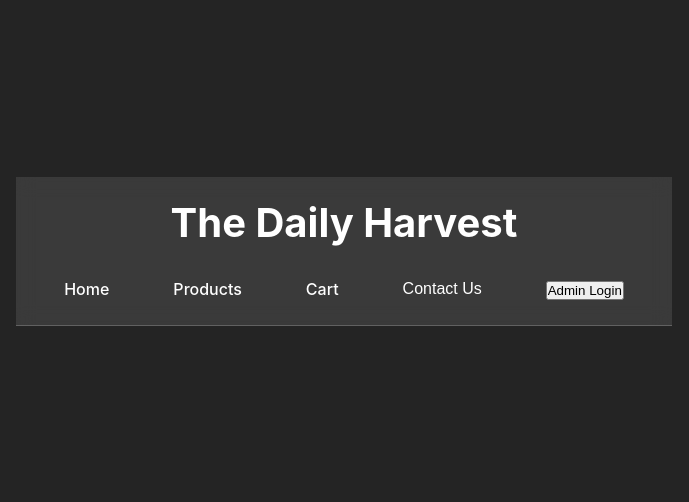
Test: Header › opens the Contact Us modal from the header menu
The image size is (689, 502).
Click the button "Contact Us" at (442,288), box [387, 268, 498, 308]
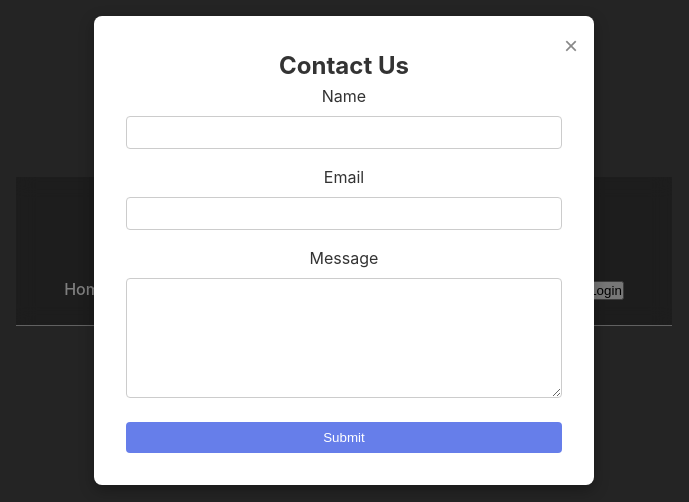
Expected: the heading "Contact Us" is shown, [279, 51, 409, 80]
